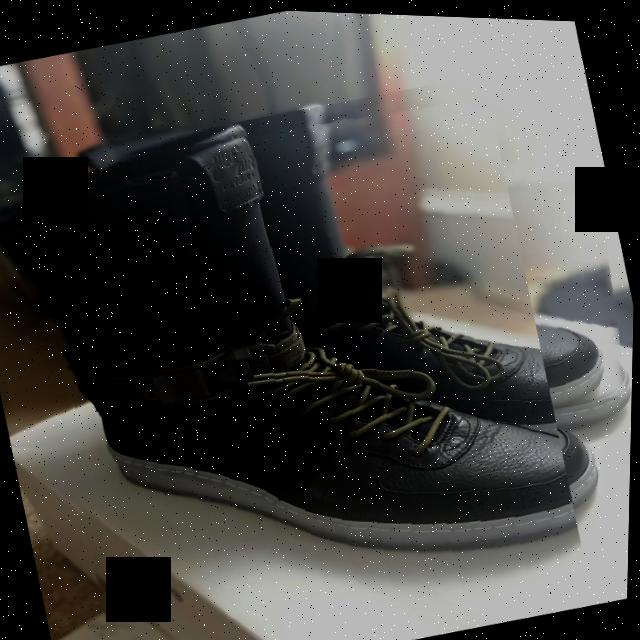shoe: (0, 64, 600, 640), (144, 37, 639, 507)
